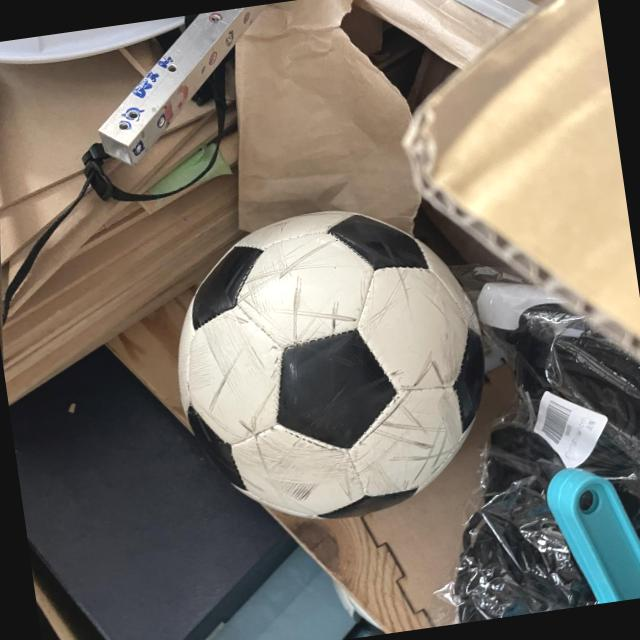Soccer Ball: (157, 191, 508, 541)
